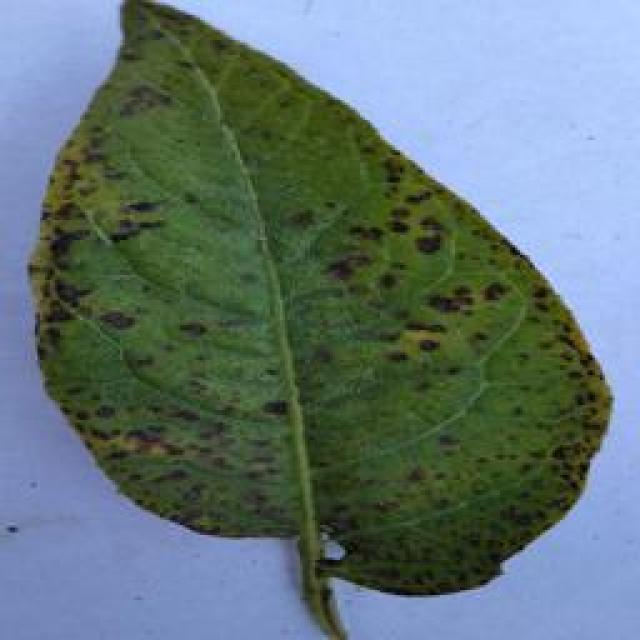Potato_Early_Blight: (2, 5, 632, 631)
